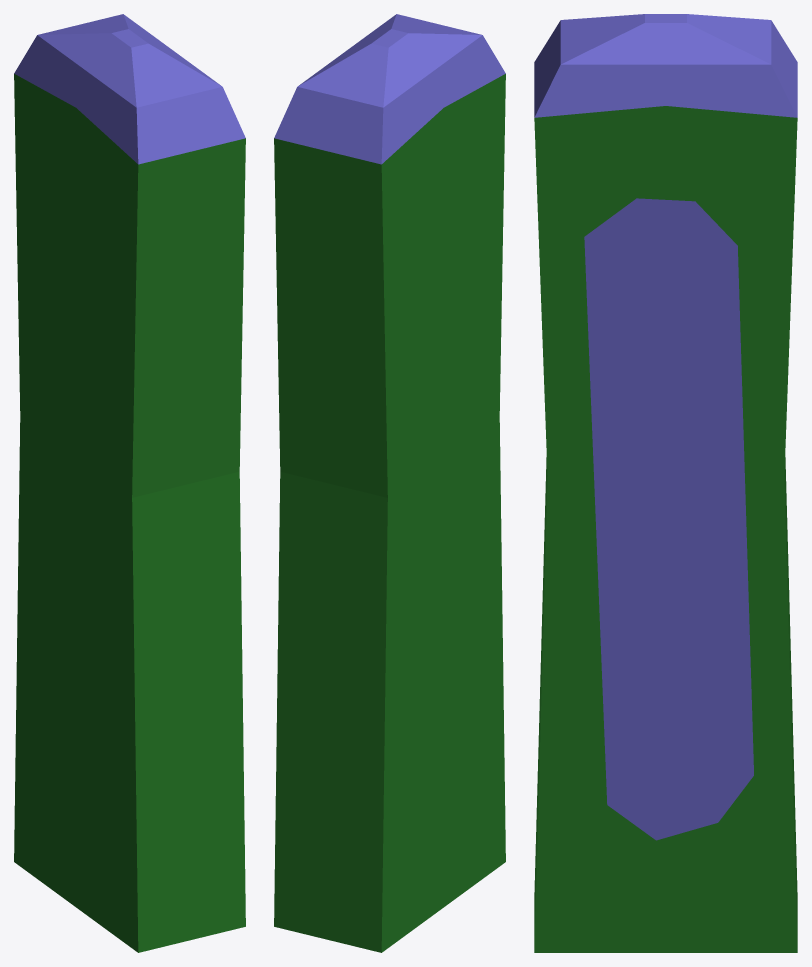
Rendered from BoteGel.fbx.
3 renders of one model, left to right at view 1: azimuth 30°, elevation 25°; view 2: azimuth 150°, elevation 25°; view 3: azimuth 270°, elevation 25°, orthographic. The views are drawn at different scales.
Visible parts, largest first — view 1: Cube; view 2: Cube; view 3: Cube.
Boxes of the visible parts, <box> form: Cube: <box>14,14,245,952</box>; Cube: <box>274,14,505,952</box>; Cube: <box>534,14,797,952</box>.
Bounding box in the file's own units: 100 × 760 × 200.
